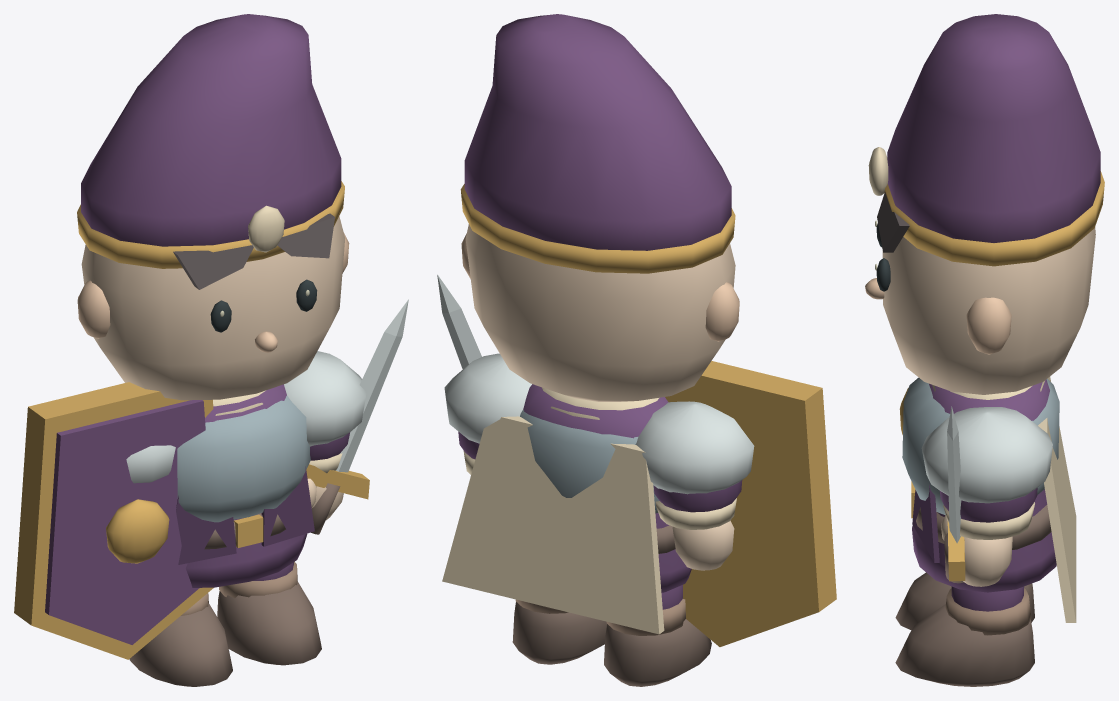
File: guard.glb
3 renders of one model, left to right at view 1: azimuth 30°, elevation 25°; view 2: azimuth 150°, elevation 25°; view 3: azimuth 270°, elevation 25°, orthographic. The views are drawn at different scales.
Parts seen in each view (by area): view 1: Folded Persian tiara, Soft cheek head, Regional shield face, Shield gold rim, Rounded breastplate, Round leather boot.001, Round leather boot, Big shoulder armour.001, Short folded tunic, Tiara gold band, Shield boss, Shaped bevel sword (+12 smaller); view 2: Folded Persian tiara, Persian shoulder drape, Soft cheek head, Shield gold rim, Big shoulder armour, Tiara gold band, Round leather boot, Rounded breastplate, Big shoulder armour.001, Short folded tunic, Round leather boot.001, Little mitten (+6 smaller); view 3: Folded Persian tiara, Soft cheek head, Big shoulder armour.001, Round leather boot.001, Short folded tunic, Tiara gold band, Rounded breastplate, Persian shoulder drape, Ear.001, Little mitten.001, Boot turn cuff.001, Round leather boot (+11 smaller).
Boxes of the visible parts, x1,y1,x2,y2 form: Folded Persian tiara: (81,14,341,246); Soft cheek head: (81,216,345,400); Regional shield face: (45,400,205,644); Shield gold rim: (14,382,213,659); Rounded breastplate: (177,395,310,522); Round leather boot.001: (217,581,321,665); Round leather boot: (129,603,232,686); Big shoulder armour.001: (284,351,366,446); Short folded tunic: (185,384,307,587); Tiara gold band: (77,181,344,268); Shield boss: (106,499,169,563); Shaped bevel sword: (336,299,408,472); Folded Persian tiara: (464,14,731,250); Persian shoulder drape: (442,416,664,634); Soft cheek head: (465,224,735,401); Shield gold rim: (665,361,836,646); Big shoulder armour: (635,401,754,494); Tiara gold band: (460,184,735,273); Round leather boot: (604,619,711,686); Rounded breastplate: (520,410,659,513); Big shoulder armour.001: (444,353,531,443); Short folded tunic: (523,384,691,592); Round leather boot.001: (512,602,606,664); Little mitten: (672,520,734,570); Folded Persian tiara: (887,14,1100,242); Soft cheek head: (882,227,1095,394); Big shoulder armour.001: (921,407,1052,503); Round leather boot.001: (895,604,1034,686); Short folded tunic: (912,379,1056,592); Tiara gold band: (884,171,1104,266); Rounded breastplate: (902,377,1059,514); Persian shoulder drape: (1038,377,1076,622); Ear.001: (966,297,1011,354); Little mitten.001: (963,536,1012,586); Boot turn cuff.001: (945,588,1031,635); Round leather boot: (895,572,1034,630).
Bounding box in the file's own units: 1.12 × 1.72 × 0.584.
